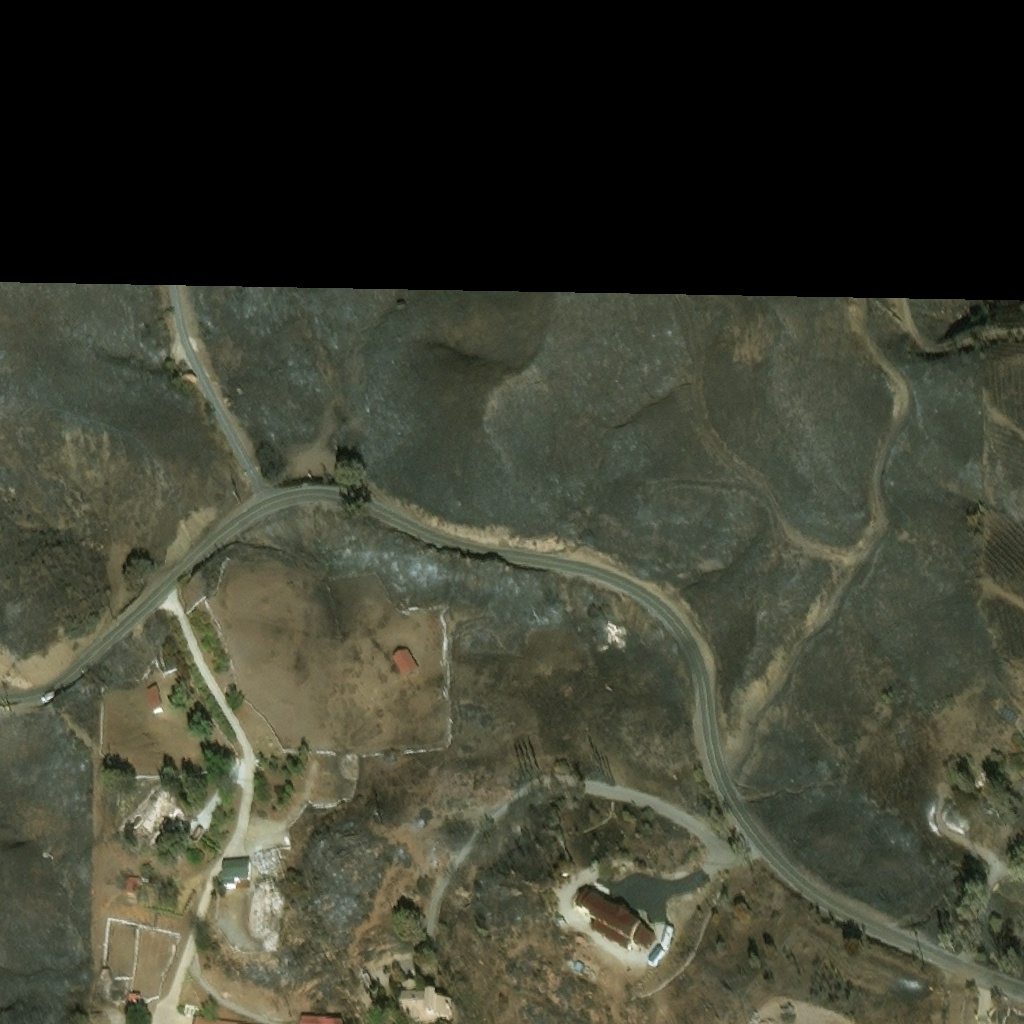0 no-damage: (583, 896, 644, 954), (399, 981, 451, 1023), (136, 790, 183, 832), (390, 645, 417, 672), (191, 1012, 253, 1023), (221, 855, 248, 878), (300, 1012, 341, 1023), (633, 927, 653, 949), (144, 681, 160, 707), (646, 943, 662, 965), (577, 892, 593, 912), (661, 924, 671, 947), (124, 874, 136, 893), (220, 877, 235, 886), (576, 966, 586, 978), (128, 992, 138, 999)
3 destroyed: (253, 876, 279, 933), (104, 973, 126, 998), (354, 980, 372, 1006), (970, 768, 990, 789), (93, 972, 106, 995), (267, 932, 279, 951), (344, 749, 355, 766), (99, 965, 106, 971), (559, 926, 566, 932)
